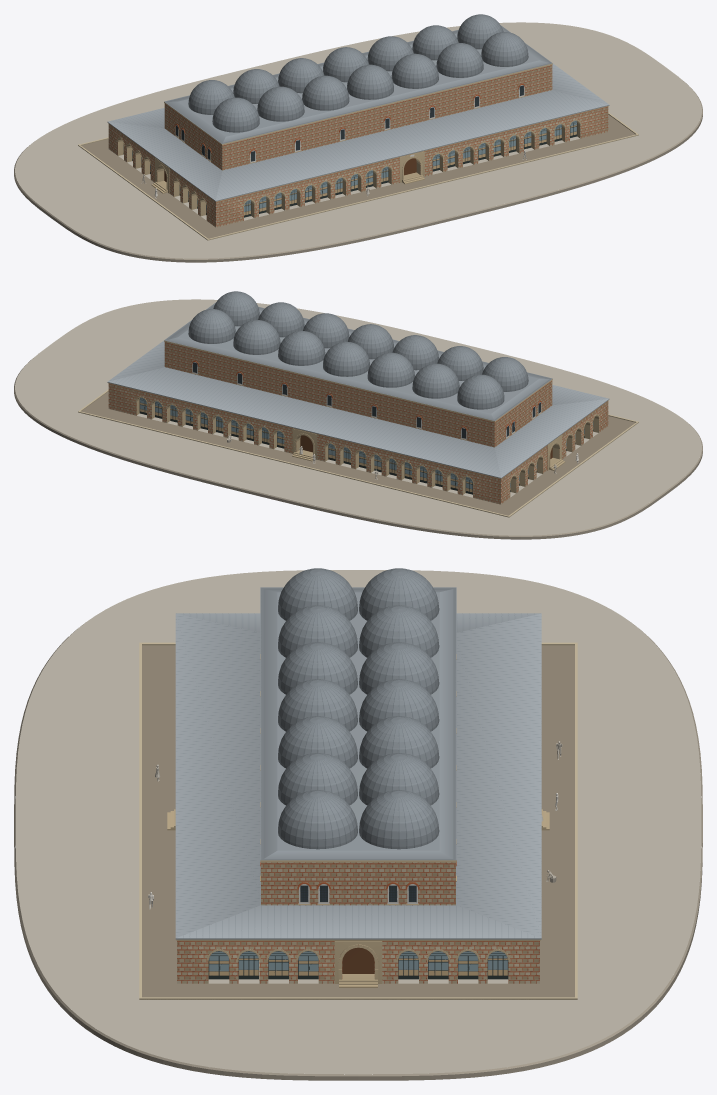
File: bedesten_v05_sunum.glb
The picture shows the model from 3 angles, top to bottom: view 1: azimuth 30°, elevation 25°; view 2: azimuth 150°, elevation 25°; view 3: azimuth 270°, elevation 25°; orthographic projection. The views are drawn at different scales.
Visible parts, largest first — view 1: Zemin, Cati, Kubbeler, Dukkanlar, Govde, Zemin_Serit, Sacak, Zemin_Bordur, Pencereler, Kapilar, Dukkan_Kapilari; view 2: Zemin, Cati, Kubbeler, Dukkanlar, Govde, Zemin_Serit, Sacak, Zemin_Bordur, Pencereler, Kapilar, Dukkan_Kapilari; view 3: Zemin, Cati, Kubbeler, Zemin_Serit, Dukkanlar, Govde, Zemin_Bordur, Sacak, Kapilar, Pencereler.
Boxes of the visible parts, <box> form: Zemin: <box>14,22,702,262</box>; Cati: <box>107,28,609,201</box>; Kubbeler: <box>188,14,528,132</box>; Dukkanlar: <box>108,106,608,227</box>; Govde: <box>164,26,552,170</box>; Zemin_Serit: <box>81,114,635,238</box>; Sacak: <box>108,25,608,202</box>; Zemin_Bordur: <box>78,112,638,240</box>; Pencereler: <box>175,83,525,163</box>; Kapilar: <box>151,151,424,193</box>; Dukkan_Kapilari: <box>117,119,581,206</box>; Zemin: <box>14,299,702,539</box>; Cati: <box>107,305,609,478</box>; Kubbeler: <box>188,291,528,409</box>; Dukkanlar: <box>108,383,608,504</box>; Govde: <box>164,303,552,447</box>; Zemin_Serit: <box>81,391,635,515</box>; Sacak: <box>108,302,608,479</box>; Zemin_Bordur: <box>78,389,638,517</box>; Pencereler: <box>191,360,541,440</box>; Kapilar: <box>292,428,565,470</box>; Dukkan_Kapilari: <box>135,396,599,483</box>; Zemin: <box>14,570,702,1080</box>; Cati: <box>175,589,541,939</box>; Kubbeler: <box>278,568,439,849</box>; Zemin_Serit: <box>141,645,577,999</box>; Dukkanlar: <box>177,941,539,983</box>; Govde: <box>261,587,455,905</box>; Zemin_Bordur: <box>139,642,577,999</box>; Sacak: <box>176,587,540,940</box>; Kapilar: <box>167,809,549,987</box>; Pencereler: <box>260,654,456,904</box>.
Size of the model in its own units: 110 by 14.8 by 63.63.
18 materials, 5 textured.
